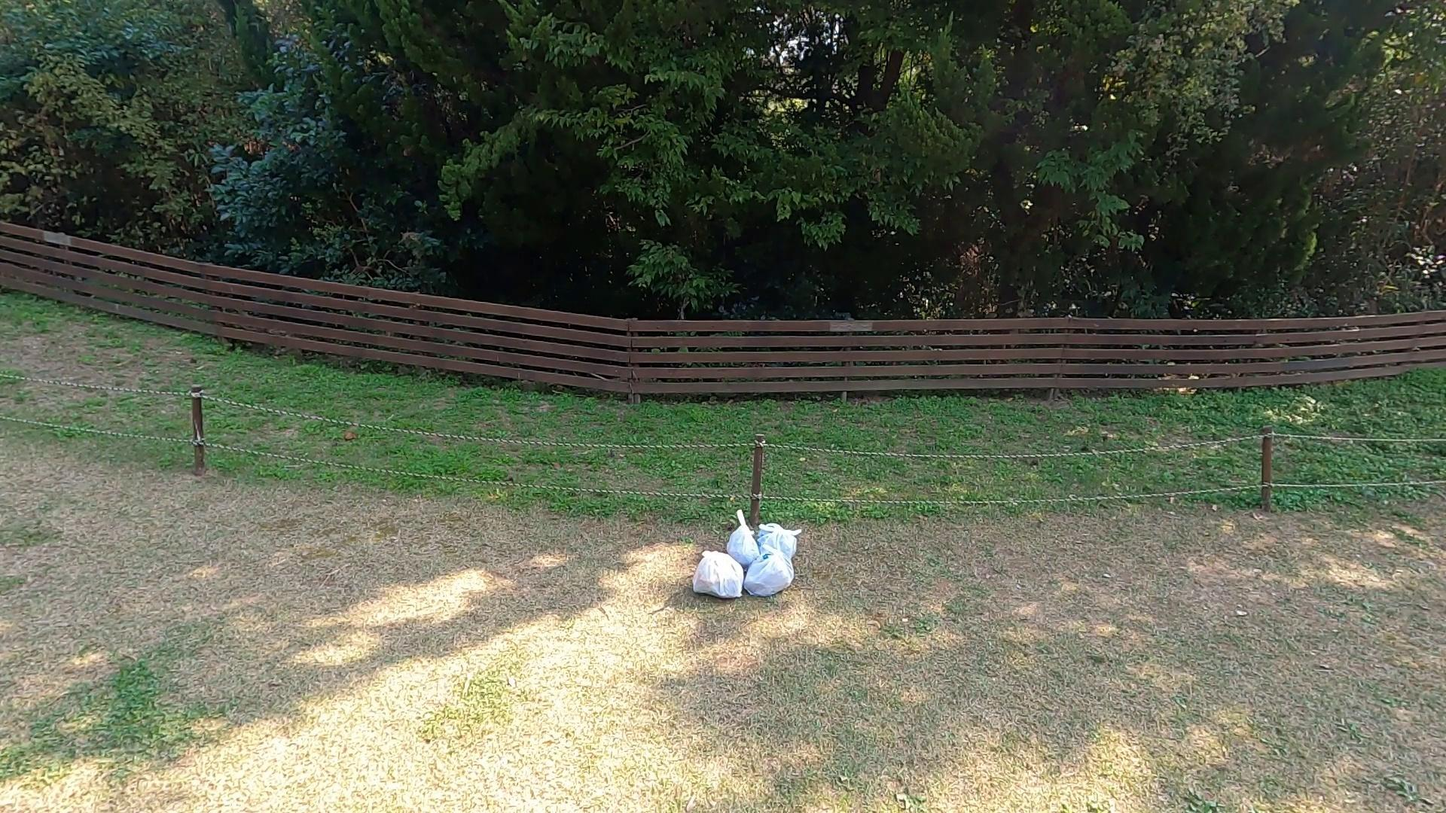trash: (743, 543, 794, 604), (694, 549, 745, 599), (757, 520, 803, 573), (726, 507, 758, 567)
